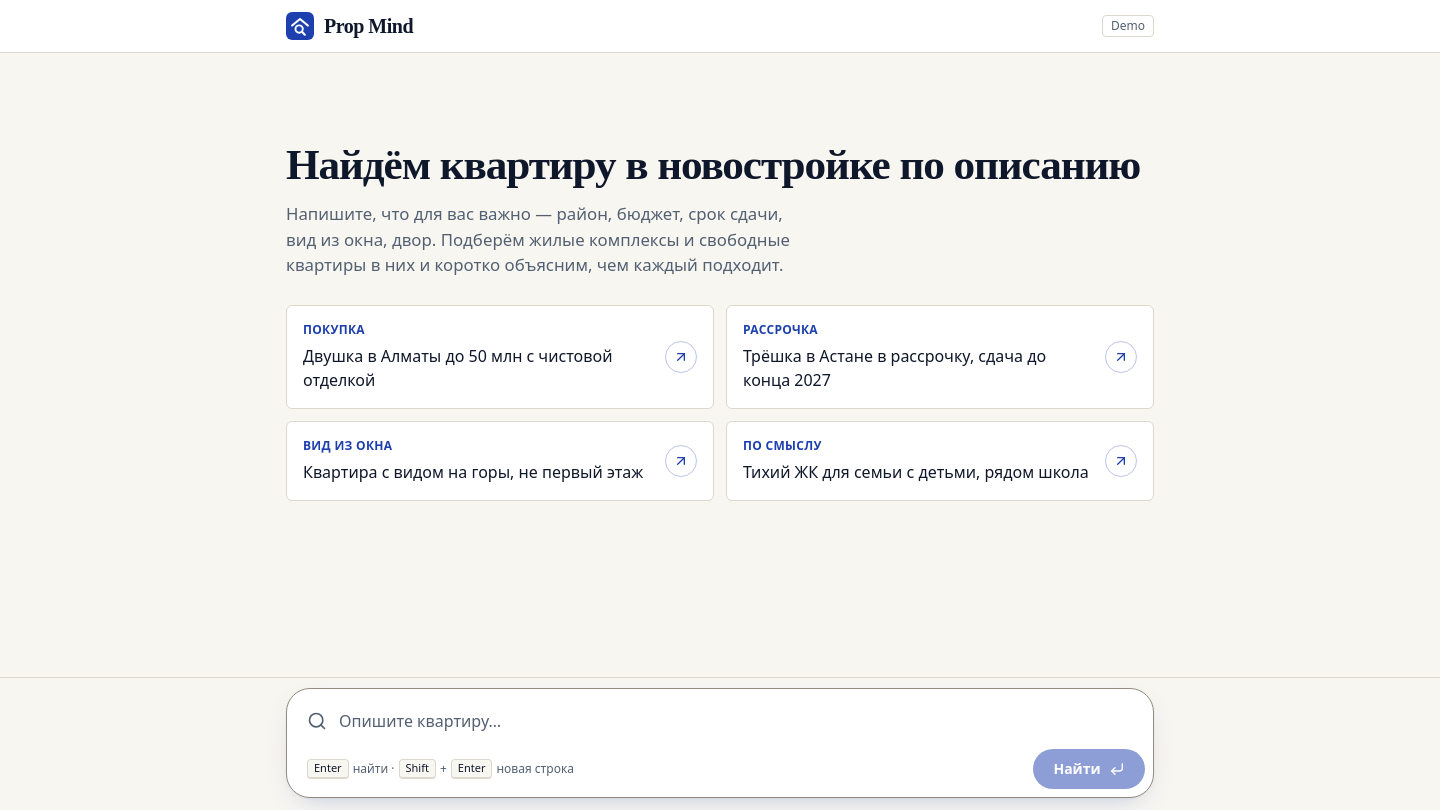
it: history: two independent turns; a link highlights the card of its own turn
Later steps or results of the test are not shown.
In the text box named "Запрос": x=736, y=721 [339, 701, 1133, 741], type "первый"
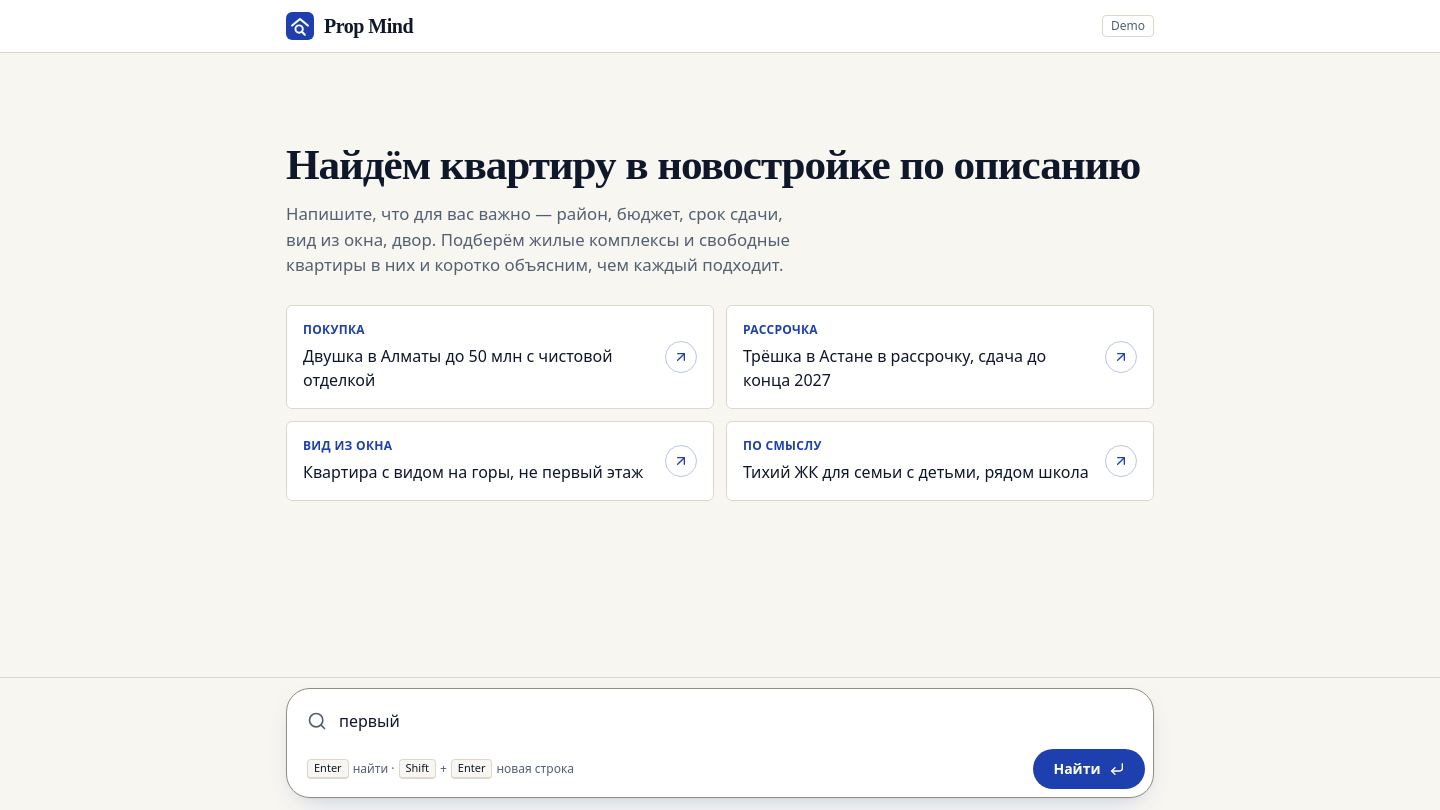
Press Enter in the text box named "Запрос", box [339, 701, 1133, 741]
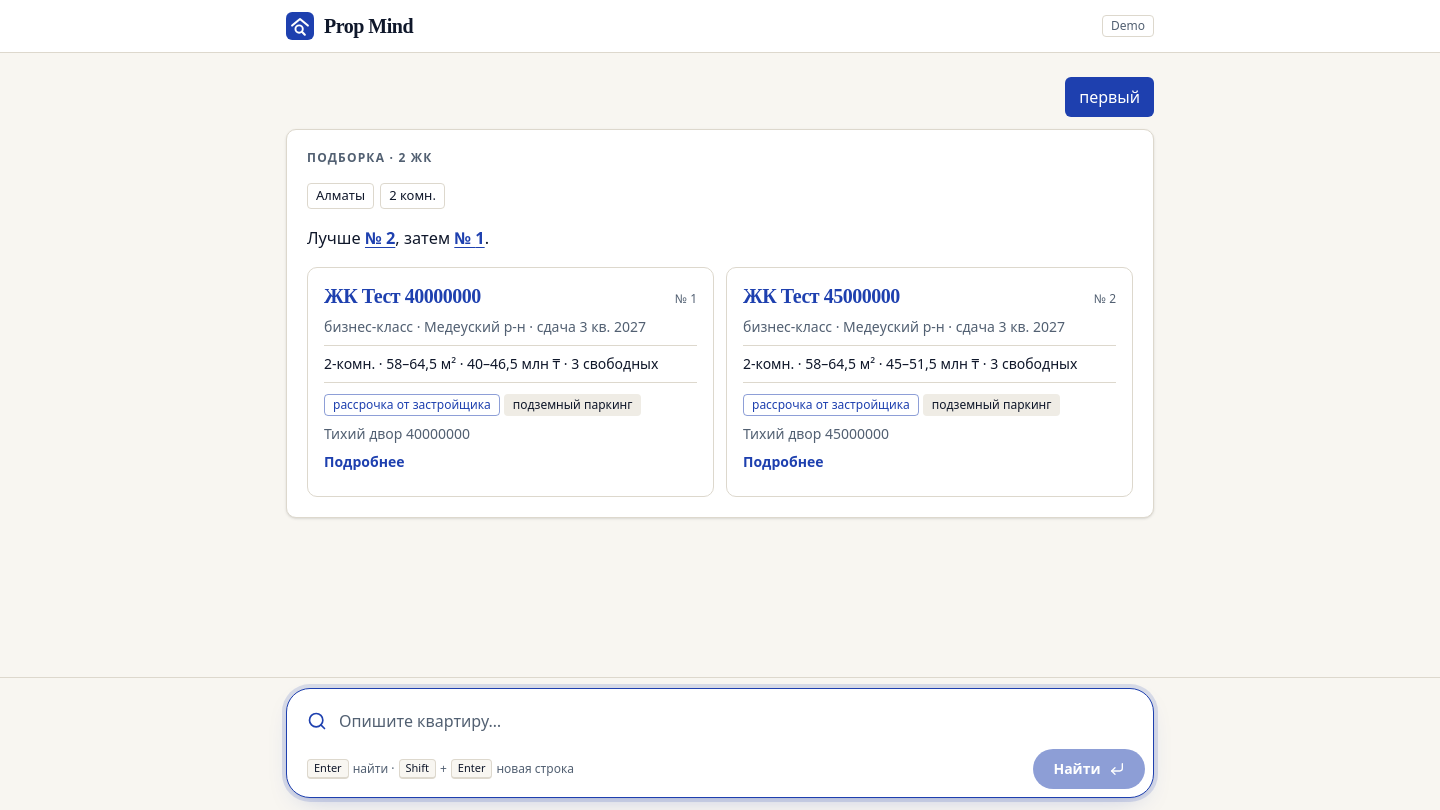
In the text box named "Запрос": x=736, y=721 [339, 701, 1133, 741], type "второй"
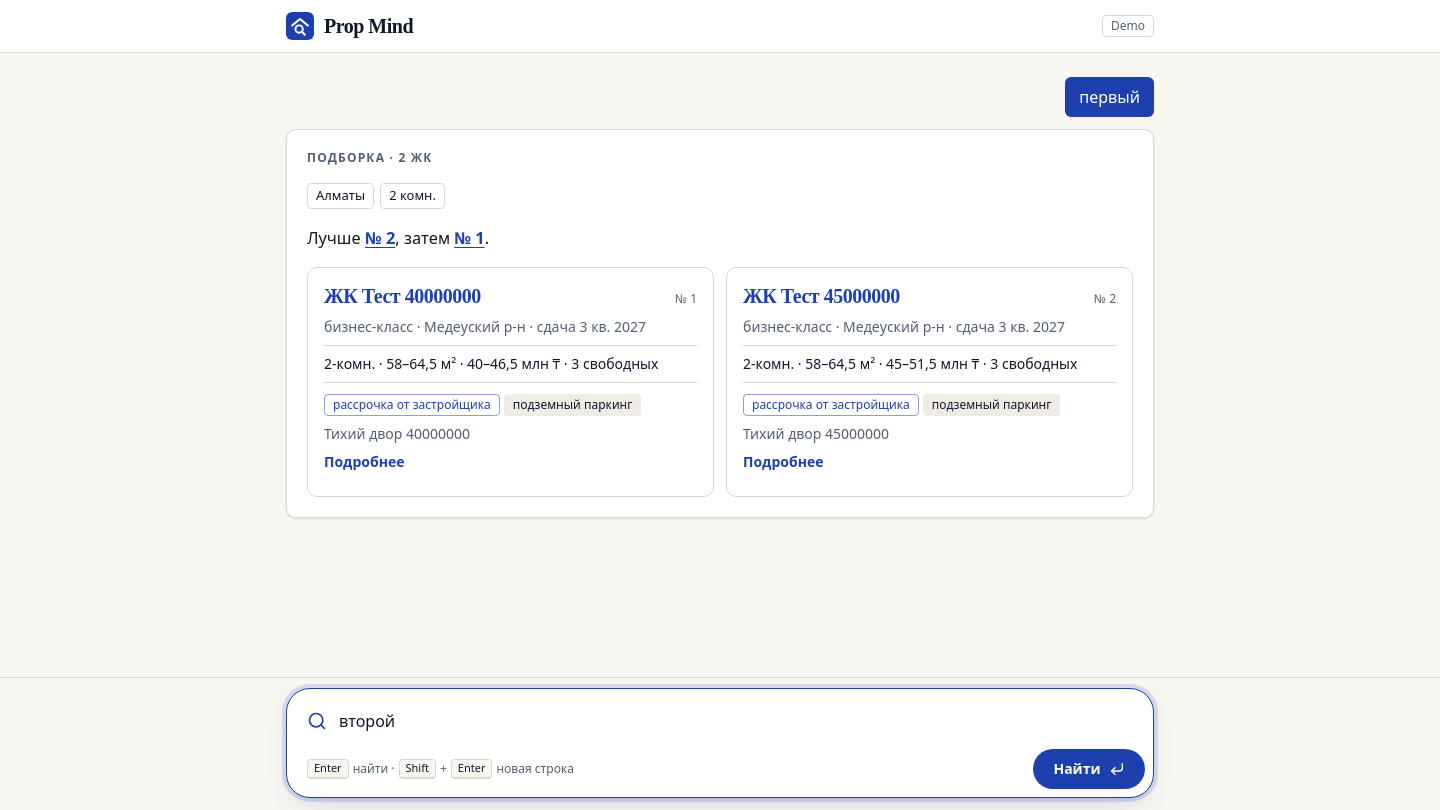
Press Enter in the text box named "Запрос", box [339, 701, 1133, 741]
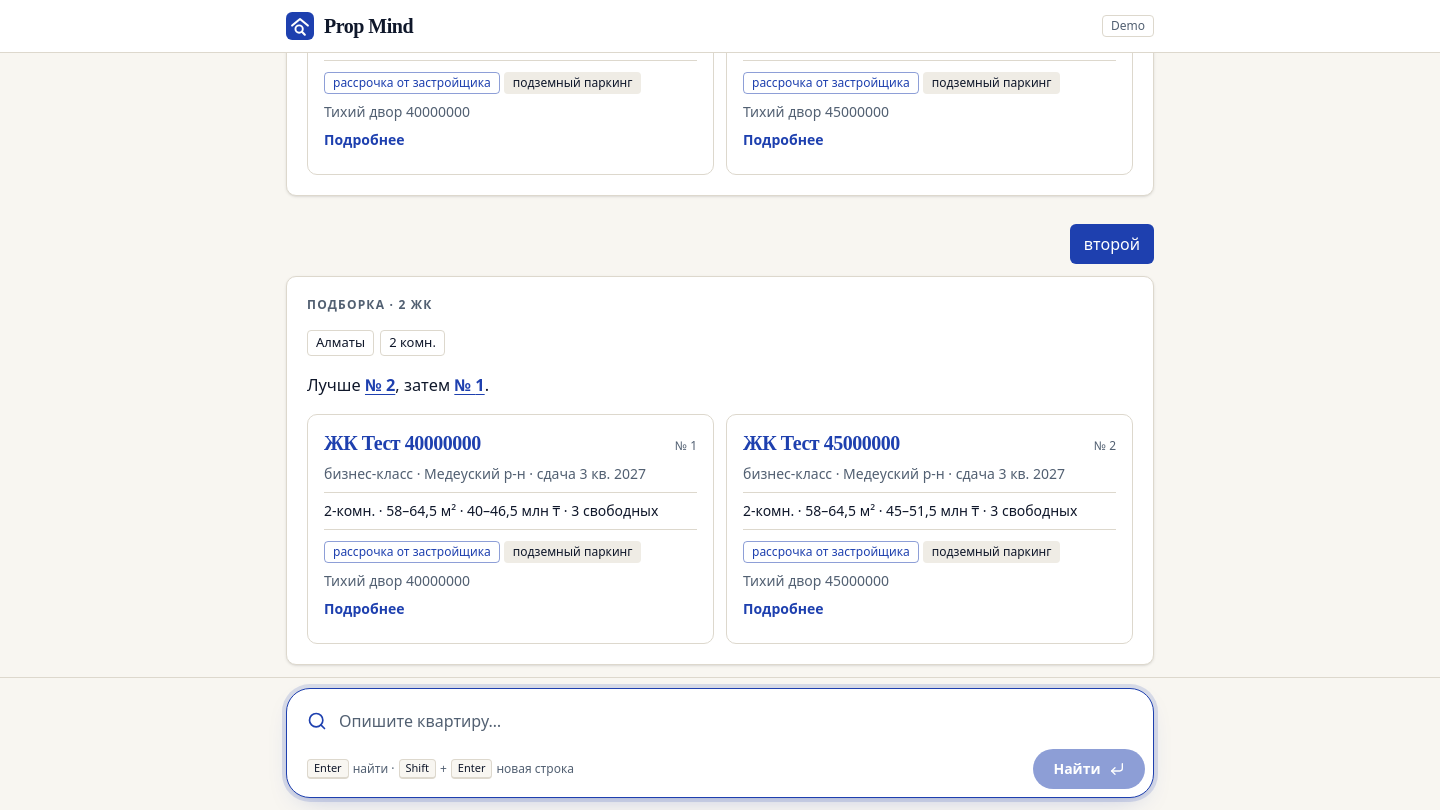
Result: the number of elements named "Запрос:" is 2
